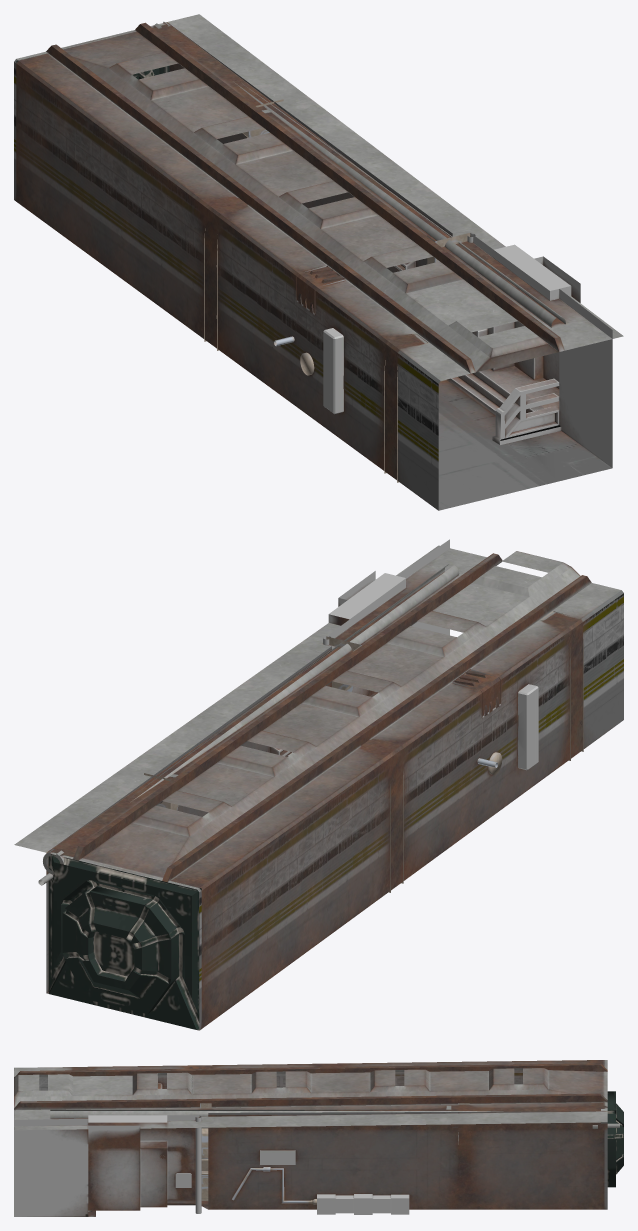
File: Environment1.glb
3 views of the same model, one above another, from view 1: azimuth 30°, elevation 25°; view 2: azimuth 150°, elevation 25°; view 3: azimuth 270°, elevation 25° (orthographic). The views are drawn at different scales.
Visible parts, largest first — view 1: Cube.012_Baked; view 2: Cube.012_Baked; view 3: Cube.012_Baked.
Boxes of the visible parts, box(x1,y1,x2,y2) form: Cube.012_Baked: box(14, 14, 623, 510); Cube.012_Baked: box(14, 539, 623, 1030); Cube.012_Baked: box(14, 1060, 623, 1216).
Bounding box in the file's own units: 21.51 × 15.24 × 76.23.
Materials: 1 (1 with a texture image).
